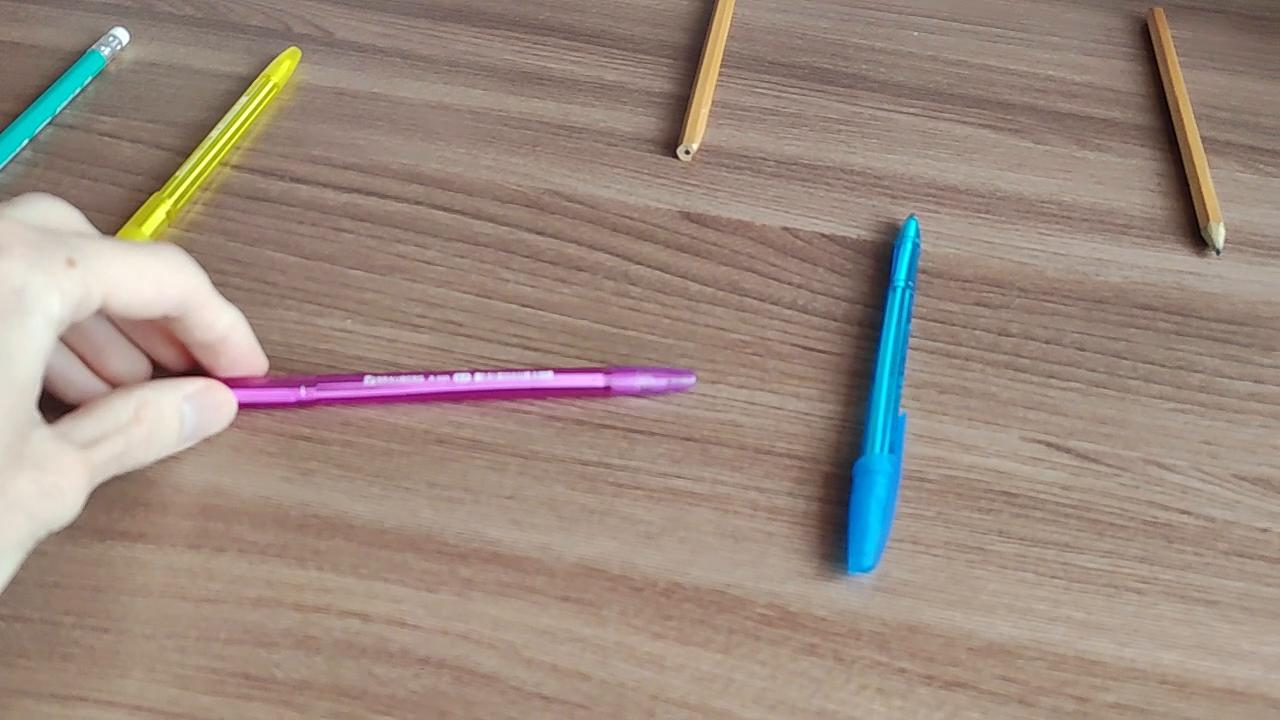pen: (113, 42, 304, 257), (202, 363, 704, 431), (844, 206, 929, 579)
pencil: (1141, 7, 1231, 263), (0, 16, 133, 180), (667, 0, 737, 162)
